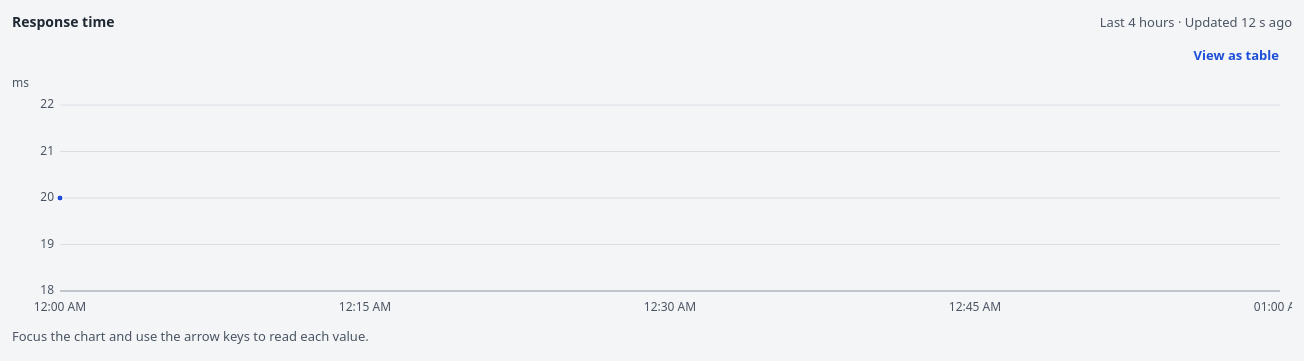
Test case: LineChart › toggles to a table with the same data and back
The width and height of the screenshot is (1304, 361).
Click the button "View as table" at (1236, 55), box [1181,39,1292,71]
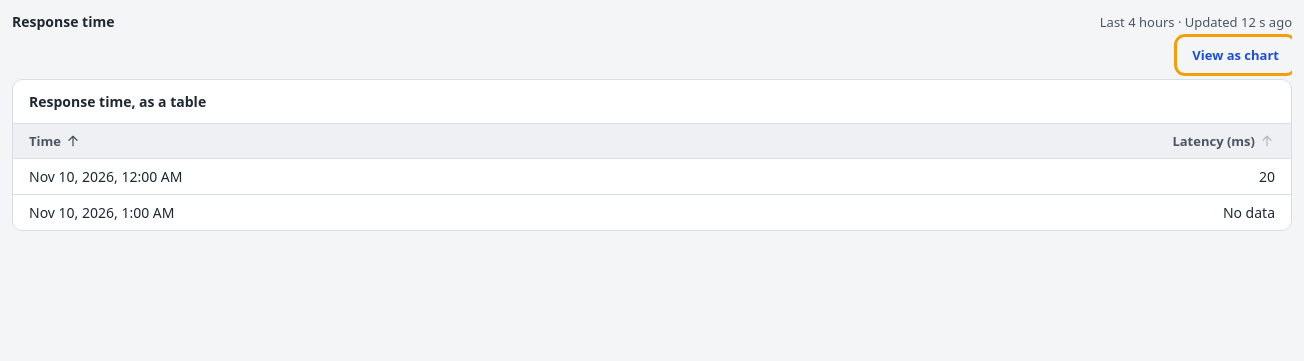
Now the column heading "Latency (ms)" is shown, box [754,124,1291,158]
Now the number of rows is 3, box [13,124,1291,158]; [13,158,1291,194]; [13,194,1291,230]
Now the text "No data" is shown, box [754,194,1291,230]
Click the button "View as chart" at (1236, 55), box [1179,39,1292,71]
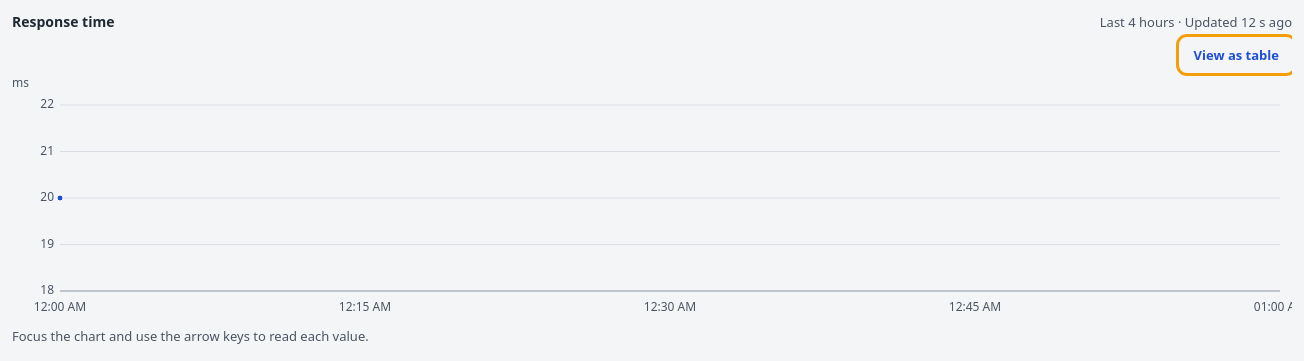
Now the element named "Response time, Last 4 hours. Use the arrow keys to read each" is shown
